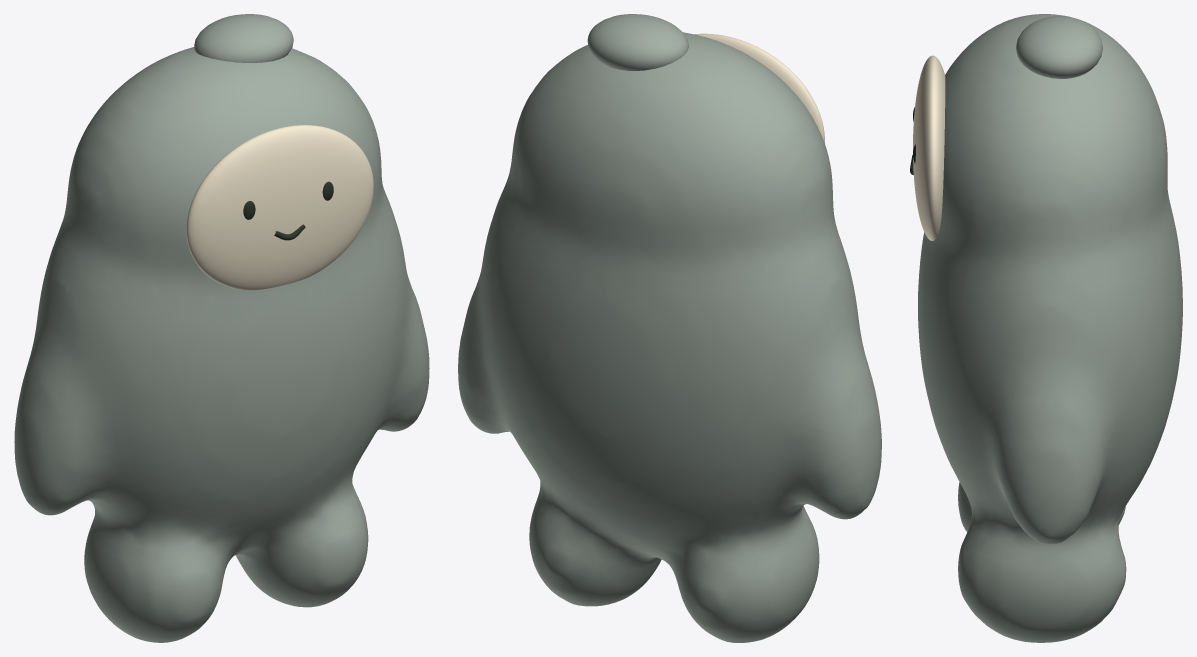
File: pebble-soft-v1.glb
3 renders of one model, left to right at view 1: azimuth 30°, elevation 25°; view 2: azimuth 150°, elevation 25°; view 3: azimuth 270°, elevation 25°, orthographic. The views are drawn at different scales.
Visible parts, largest first — view 1: Pebble continuous body, Linen face panel, Little crown pebble; view 2: Pebble continuous body, Little crown pebble, Linen face panel; view 3: Pebble continuous body, Linen face panel, Little crown pebble.
Boxes of the visible parts, bbox=[...] form: Pebble continuous body: bbox=[14, 47, 429, 642]; Linen face panel: bbox=[186, 125, 373, 290]; Little crown pebble: bbox=[194, 14, 293, 62]; Pebble continuous body: bbox=[458, 32, 881, 642]; Little crown pebble: bbox=[587, 14, 688, 70]; Linen face panel: bbox=[695, 33, 824, 143]; Pebble continuous body: bbox=[918, 14, 1182, 642]; Linen face panel: bbox=[913, 55, 945, 240]; Little crown pebble: bbox=[1016, 16, 1102, 78].
Size of the model in its own units: 1.28 by 1.79 by 0.7523.
